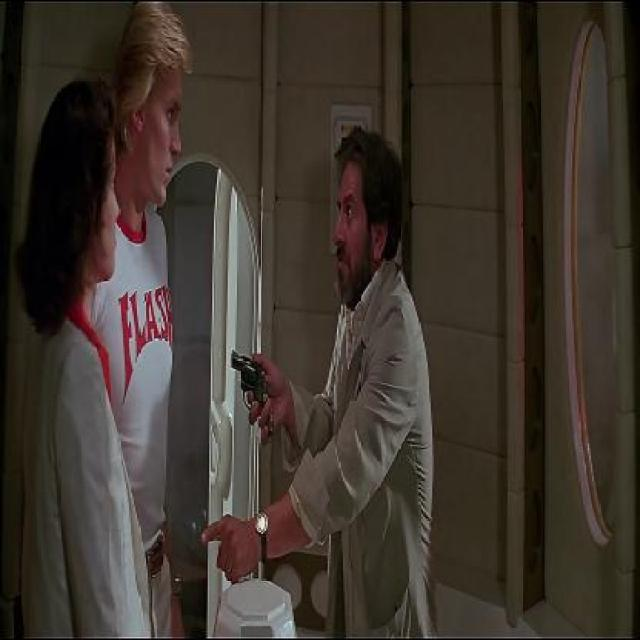gun: (223, 317, 283, 443)
